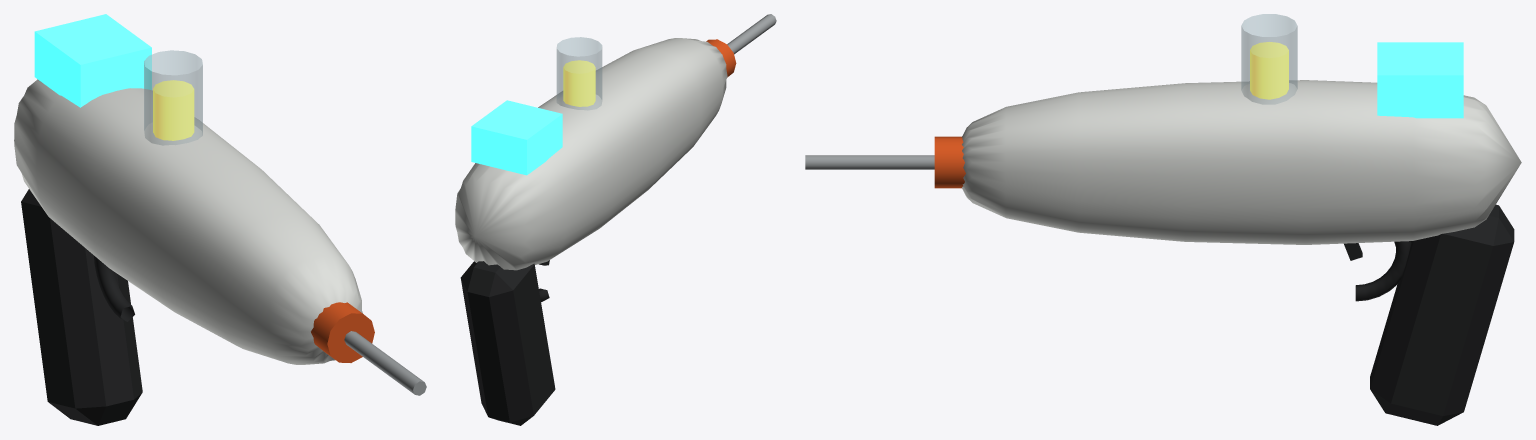
Rendered from sampler.glb.
3 renders of one model, left to right at view 1: azimuth 30°, elevation 25°; view 2: azimuth 150°, elevation 25°; view 3: azimuth 270°, elevation 25°, orthographic. The views are drawn at different scales.
Visible parts, largest first — view 1: sampler; view 2: sampler; view 3: sampler.
Boxes of the visible parts, x1,y1,x2,y2 form: sampler: (14,14,426,425); sampler: (455,14,776,425); sampler: (805,14,1521,425).
Bounding box in the file's own units: 0.0643 × 0.2014 × 0.3319.
